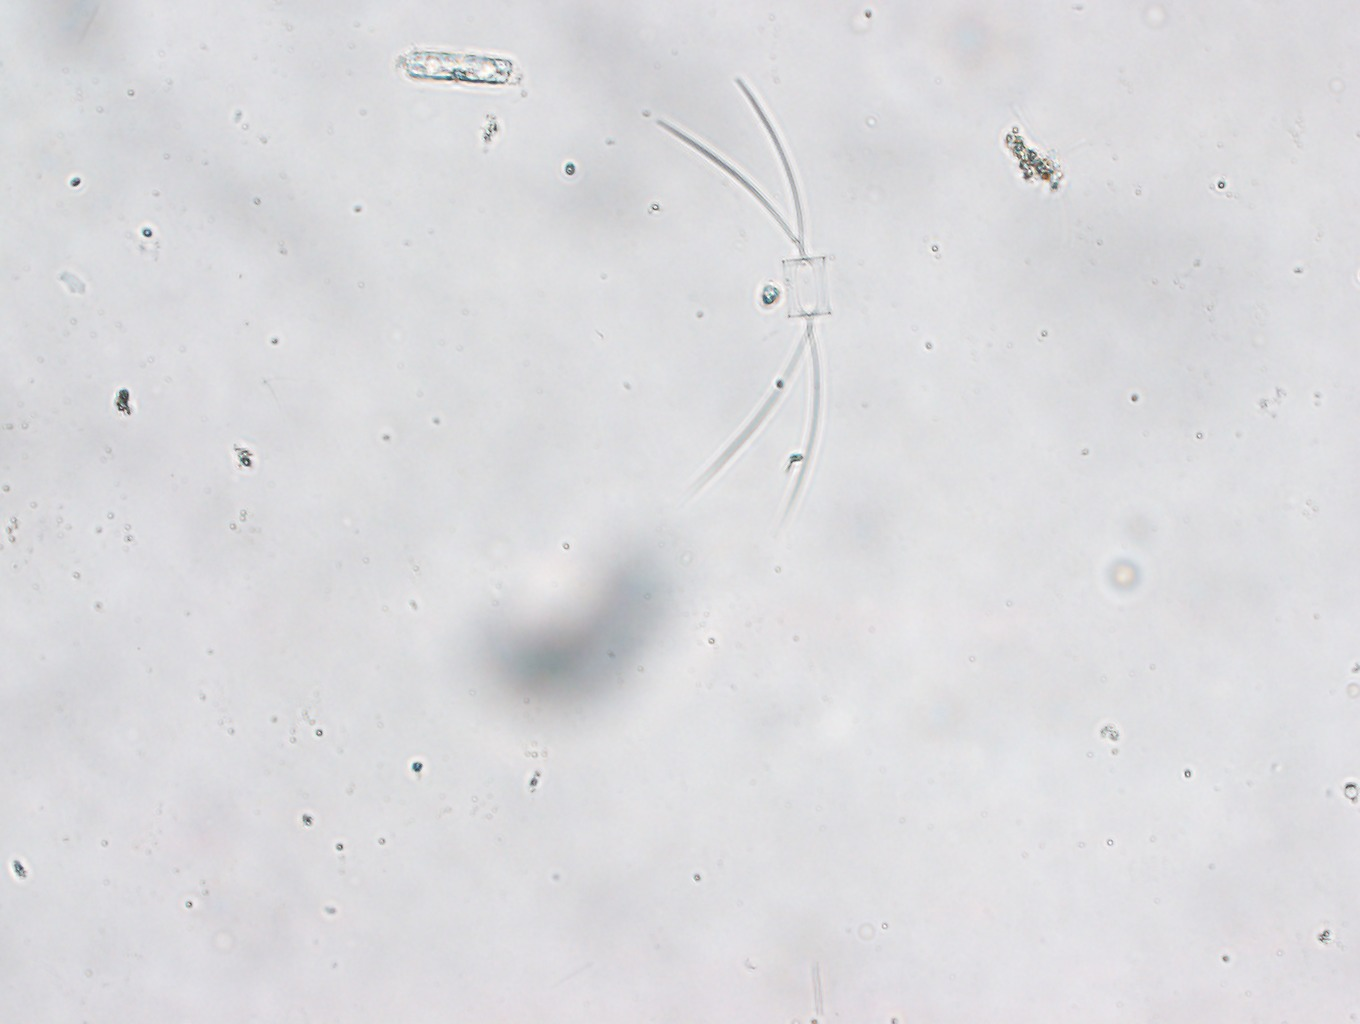chaetoceros: (655, 75, 832, 520)
